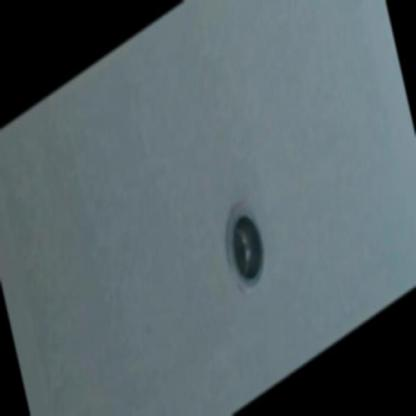light_off: (206, 168, 281, 324)
